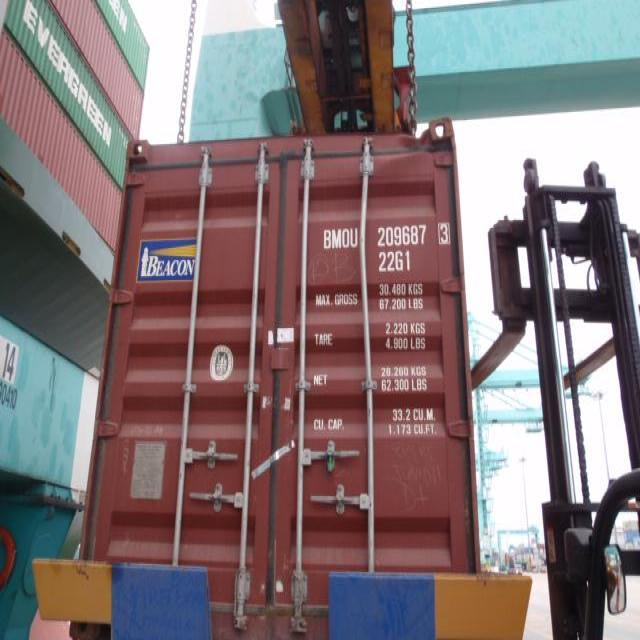dent: (352, 172, 381, 430), (377, 117, 446, 165)
